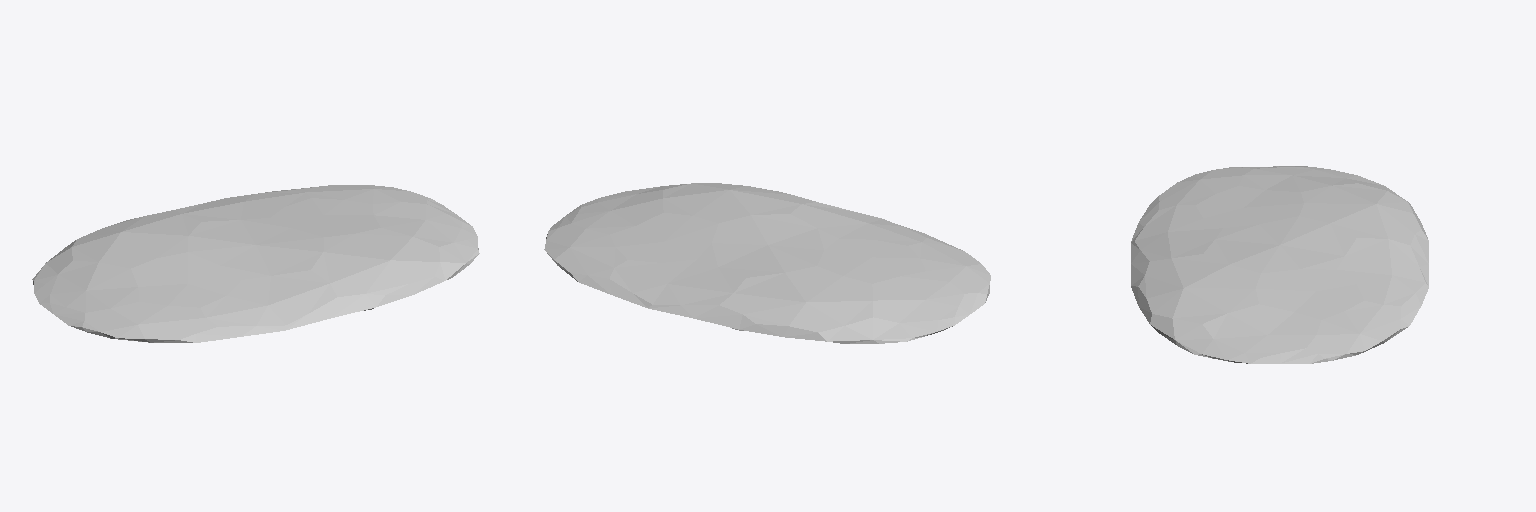
Rendered from solar_panel_floor.obj.
The picture shows the model from 3 angles: view 1: azimuth 30°, elevation 25°; view 2: azimuth 150°, elevation 25°; view 3: azimuth 270°, elevation 25°; orthographic projection.
Parts seen in each view (by area): view 1: panel_bottom.001_Cube.002; view 2: panel_bottom.001_Cube.002; view 3: panel_bottom.001_Cube.002.
Boxes of the visible parts, x1,y1,x2,y2 form: panel_bottom.001_Cube.002: [32, 185, 479, 342]; panel_bottom.001_Cube.002: [544, 183, 990, 343]; panel_bottom.001_Cube.002: [1131, 166, 1428, 363].
Size of the model in its own units: 3.56 by 0.2026 by 2.27.